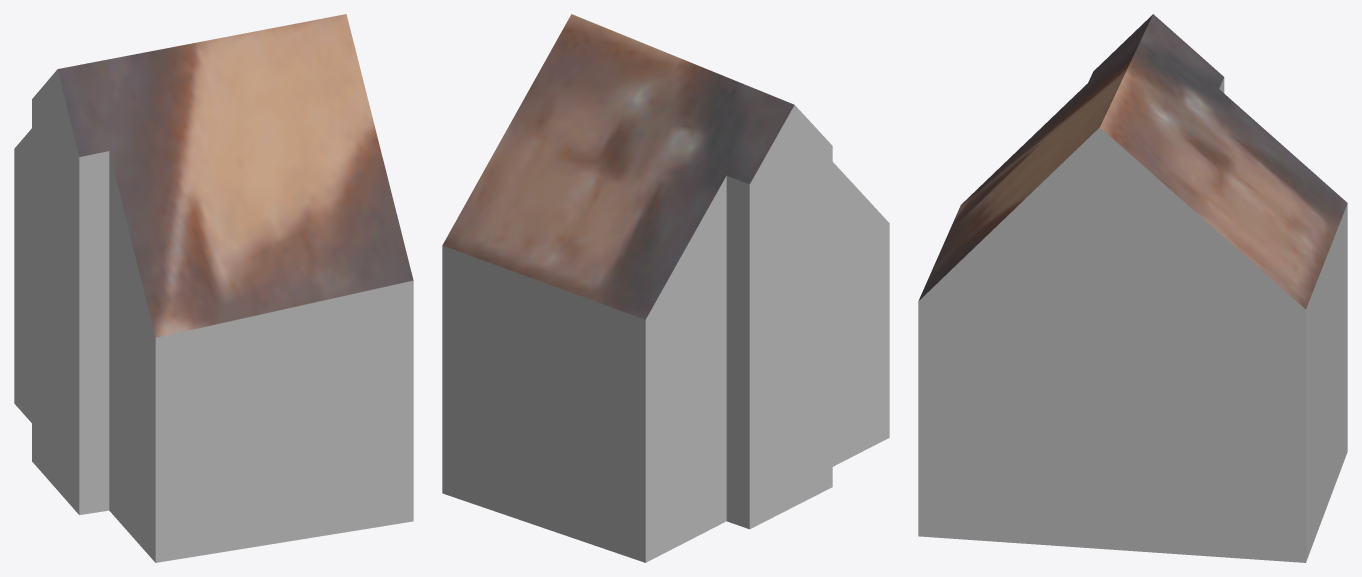
File: DEBW_0010007Txbk.gltf
3 views of the same model, side by side, from view 1: azimuth 30°, elevation 25°; view 2: azimuth 150°, elevation 25°; view 3: azimuth 270°, elevation 25° (orthographic). The views are drawn at different scales.
Visible parts, largest first — view 1: Z_UP; view 2: Z_UP; view 3: Z_UP.
Boxes of the visible parts, <box> form: Z_UP: <box>14,14,413,562</box>; Z_UP: <box>442,14,889,562</box>; Z_UP: <box>918,14,1347,562</box>.
Bounding box in the file's own units: 12.03 × 16.57 × 15.3.
Materials: 2 (1 with a texture image).
